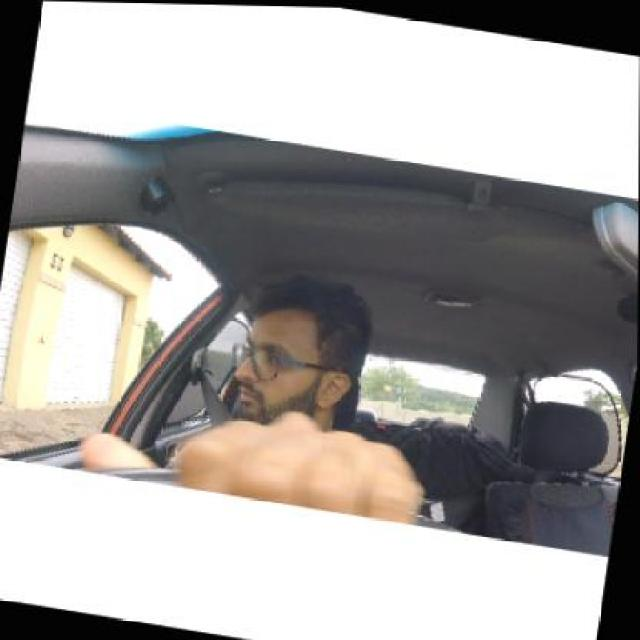LeftRight: (232, 284, 349, 426)
